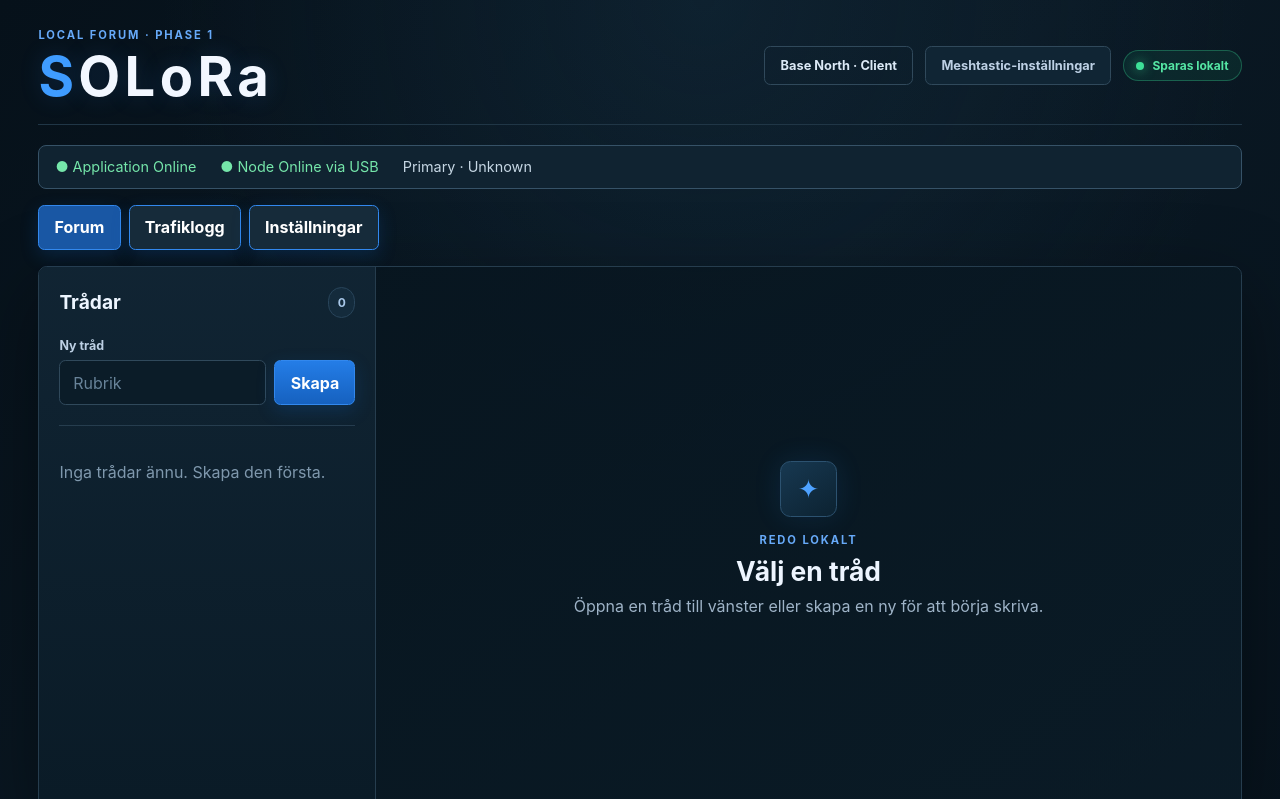
Test: radio-specific errors are still shown when application readiness is online
The width and height of the screenshot is (1280, 799).
Click the button "Meshtastic-inställningar". click: coordinates (1018, 66)
box: [925,46,1111,86]
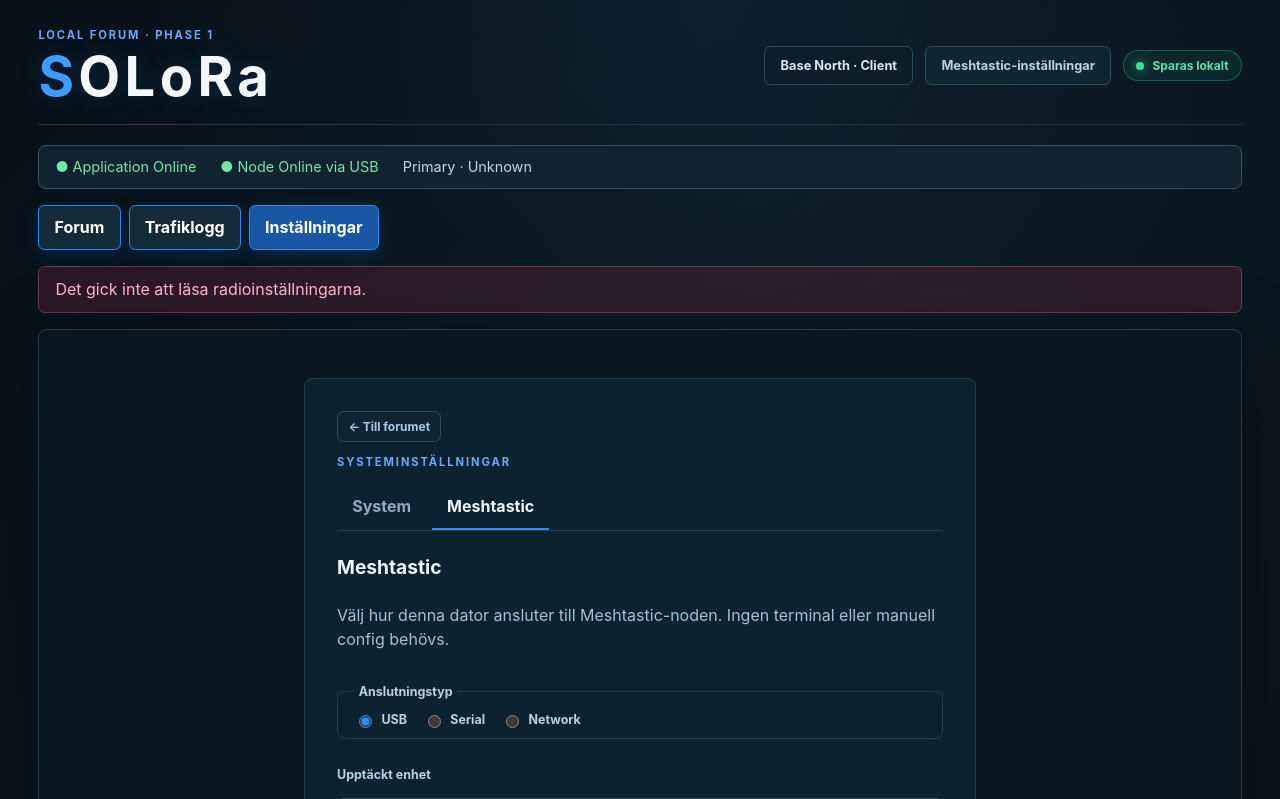
Expected: the text "Application Online" is shown, [55,158,196,175]
Now the text "Det gick inte att läsa radioinställningarna." is shown, box [38,266,1242,313]
